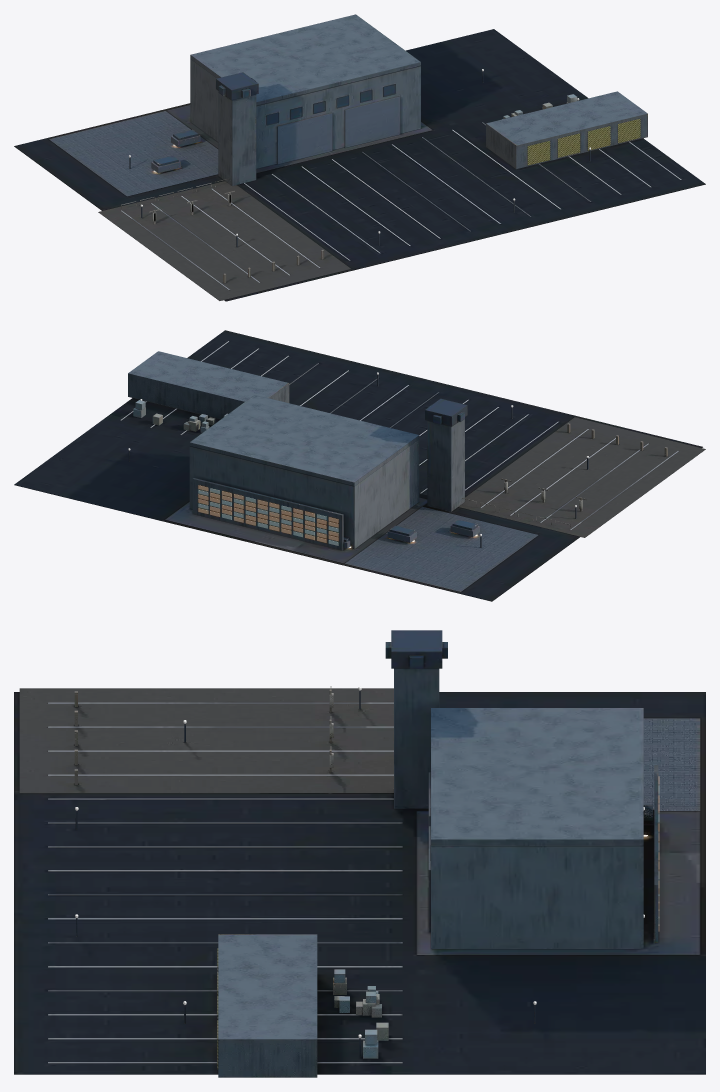
The model's file is merc_guild_low.glb.
3 views of the same model, one above another, from view 1: azimuth 30°, elevation 25°; view 2: azimuth 150°, elevation 25°; view 3: azimuth 270°, elevation 25° (orthographic). The views are drawn at different scales.
Visible parts, largest first — view 1: site_ground, walls_ext, props_yard, props_pad, props_depot; view 2: site_ground, walls_ext, props_yard, props_pad, props_depot, props_board; view 3: site_ground, walls_ext, props_yard, props_depot, props_pad, props_board.
Part boxes in pixels (x1,y1,x2,y2): site_ground: (14,29,705,301); walls_ext: (190,14,420,185); props_yard: (98,178,350,300); props_pad: (49,111,218,196); props_depot: (486,91,647,169); site_ground: (14,330,702,601); walls_ext: (189,395,467,548); props_yard: (458,417,705,537); props_pad: (343,506,538,591); props_depot: (128,351,289,432); props_board: (192,478,345,550); site_ground: (14,692,705,1074); walls_ext: (385,630,643,948); props_yard: (19,686,393,793); props_depot: (217,934,388,1077); props_pad: (643,718,700,836); props_board: (653,765,659,943).
Bounding box in the file's own units: 130 × 24.7 × 97.6.
7 materials, 7 textured.
